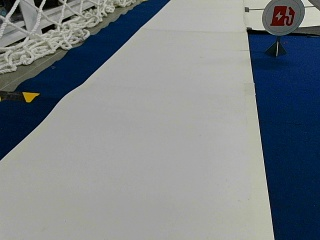battery: (260, 0, 305, 35)
